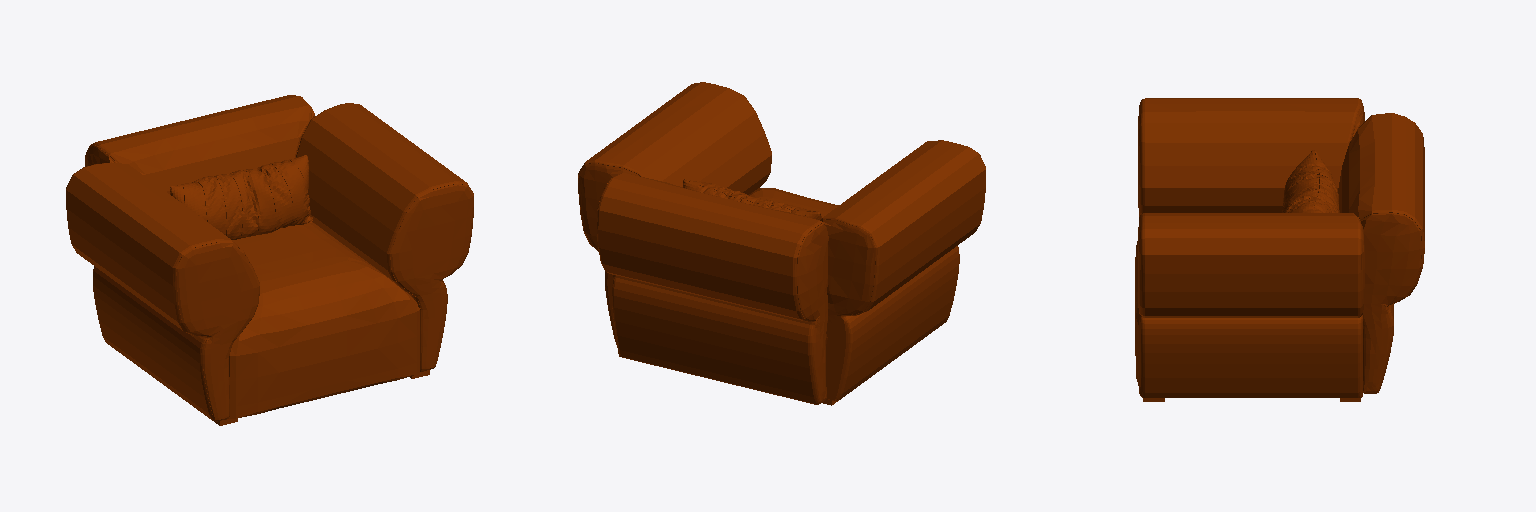
3 views of the same model, side by side, from view 1: azimuth 30°, elevation 25°; view 2: azimuth 150°, elevation 25°; view 3: azimuth 270°, elevation 25° (orthographic).
Parts seen in each view (by area): view 1: Fabric, Pillow; view 2: Fabric, Pillow; view 3: Fabric, Pillow.
Boxes of the visible parts, x1,y1,x2,y2 form: Fabric: [66, 95, 473, 421]; Pillow: [170, 155, 312, 239]; Fabric: [578, 82, 985, 404]; Pillow: [683, 179, 821, 219]; Fabric: [1135, 98, 1424, 397]; Pillow: [1282, 150, 1339, 212].
Size of the model in its own units: 1237 by 742 by 1031.